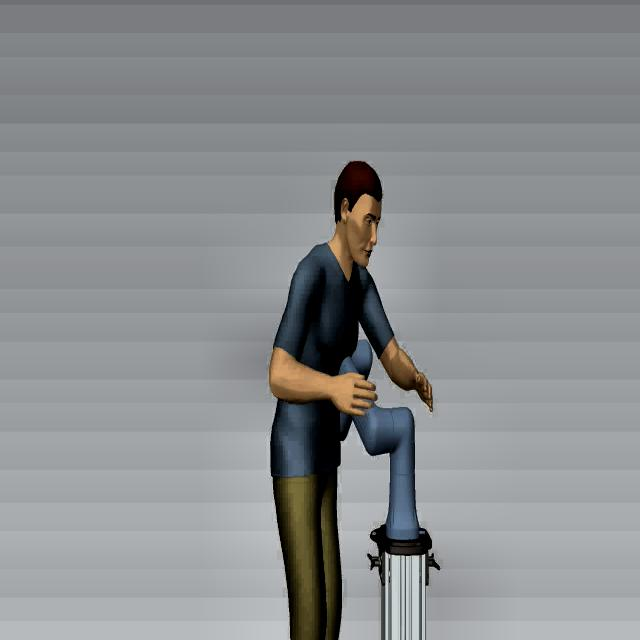robot: (326, 341, 437, 587)
